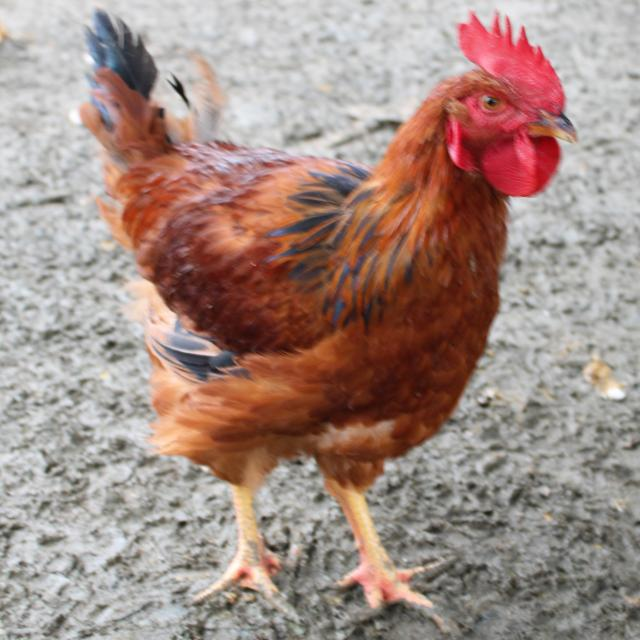cook: (76, 11, 577, 626)
